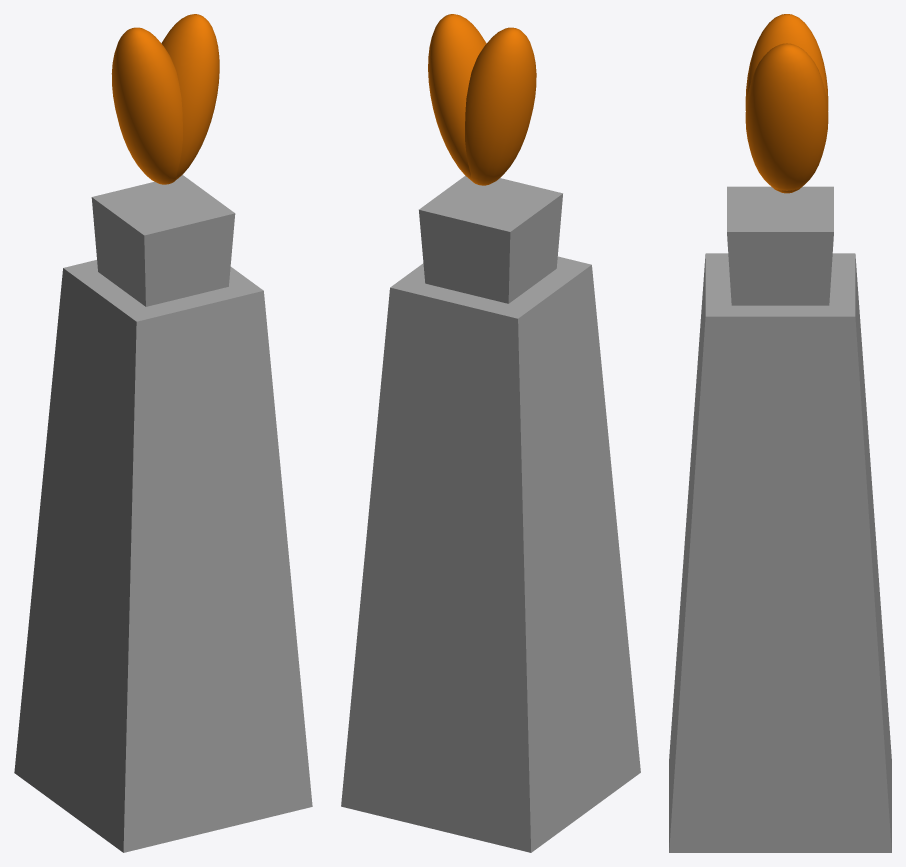
Rendered from EN_P_Fireplace_01_19G4_01_19.fbx.
3 views of the same model, side by side, from view 1: azimuth 30°, elevation 25°; view 2: azimuth 150°, elevation 25°; view 3: azimuth 270°, elevation 25° (orthographic). The views are drawn at different scales.
Visible parts, largest first — view 1: Fire; view 2: Fire; view 3: Fire.
Part boxes in pixels (x1,y1,x2,y2): Fire: [14, 14, 312, 852]; Fire: [341, 14, 640, 852]; Fire: [669, 14, 891, 852].
Size of the model in its own units: 50.44 by 195 by 50.44.
